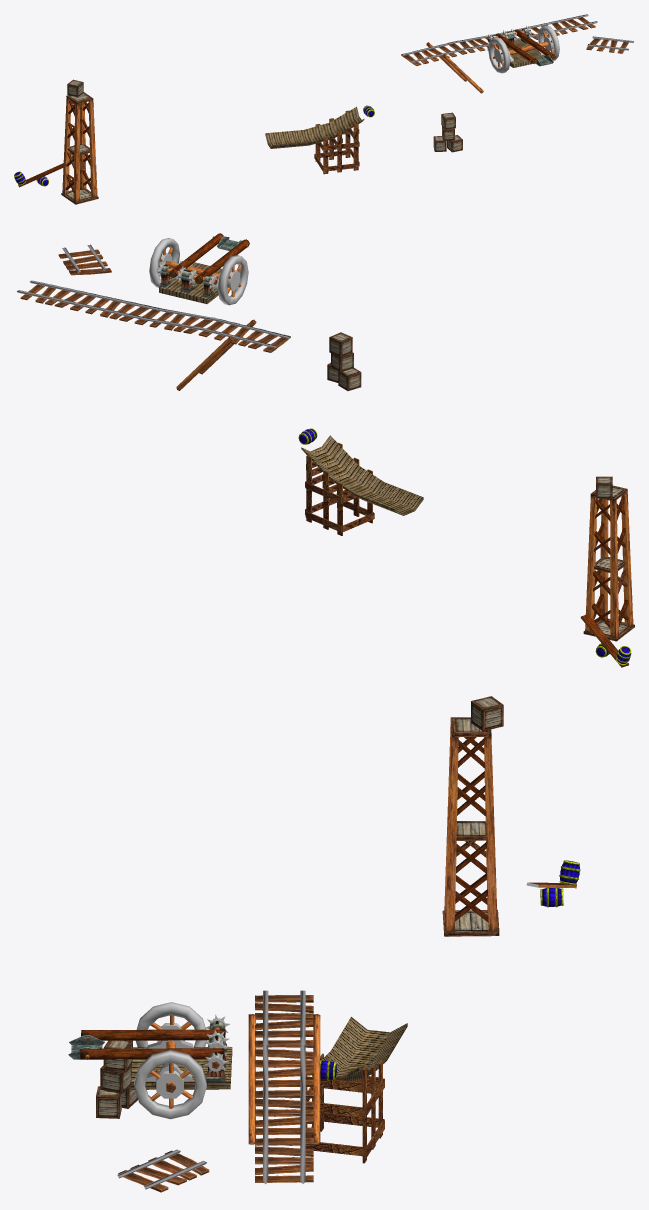
Rendered from CONTRAPTION1.obj.
3 renders of one model, top to bottom at view 1: azimuth 30°, elevation 25°; view 2: azimuth 150°, elevation 25°; view 3: azimuth 270°, elevation 25°, orthographic. The views are drawn at different scales.
Visible parts, largest first — view 1: con1tower, con1ramp, con1cata_arm, con1platform, track1a01, con1_catawheels, con1_catabase, con1catawheel2, Mesh02, Mesh01; view 2: con1ramp, con1tower, track1a01, con1cata_arm, con1_catabase, con1platform, con1_catawheels, con1catawheel2, Mesh02, Mesh01; view 3: con1tower, con1ramp, track1a01, con1cata_arm, con1catawheel2, con1platform, con1_catabase, Mesh01, Mesh02, con1_catawheels, con1_pier1, con1box (+3 smaller).
Boxes of the visible parts, box(x1,y1,x2,y2) form: con1tower: box(61, 92, 98, 204); con1ramp: box(265, 106, 364, 174); con1cata_arm: box(487, 25, 555, 66); con1platform: box(401, 40, 470, 65); track1a01: box(495, 14, 597, 40); con1_catawheels: box(488, 37, 510, 73); con1_catabase: box(487, 28, 545, 67); con1catawheel2: box(509, 25, 559, 60); Mesh02: box(586, 36, 633, 53); Mesh01: box(459, 34, 495, 52); con1ramp: box(301, 435, 423, 535); con1tower: box(583, 485, 634, 641); track1a01: box(17, 280, 161, 325); con1cata_arm: box(158, 233, 249, 289); con1_catabase: box(159, 261, 231, 303); con1platform: box(197, 317, 290, 352); con1_catawheels: box(218, 255, 248, 305); con1catawheel2: box(149, 238, 219, 287); Mesh02: box(58, 244, 111, 275); Mesh01: box(145, 308, 212, 333); con1tower: box(442, 717, 499, 936); con1ramp: box(305, 1016, 407, 1163); track1a01: box(255, 1086, 313, 1184); con1cata_arm: box(68, 1014, 229, 1074); con1catawheel2: box(134, 1040, 206, 1119); con1platform: box(255, 990, 313, 1048); con1_catabase: box(131, 1021, 232, 1089); Mesh01: box(255, 1046, 313, 1087); Mesh02: box(117, 1149, 209, 1192); con1_catawheels: box(136, 1002, 207, 1047); con1_pier1: box(313, 1014, 320, 1144); con1box: box(471, 696, 503, 731).
Size of the model in its own units: 3900 by 935 by 1676.
